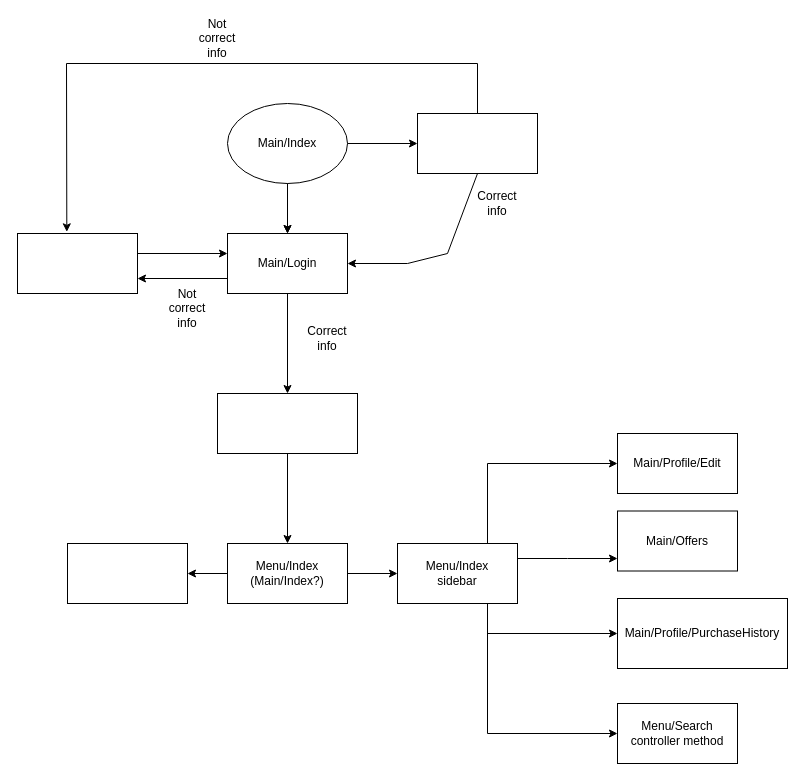
This 805x781 diagram has some shape labels left out. The centre of each missing label's shape, as x and y in pixels:
"Main/Error" belongs at point (77, 263).
"Main/Logout(Partial view showing confirmation)" belongs at point (127, 573).
"Main/Register" belongs at point (477, 143).
"TwoFactorAuthentication" belongs at point (287, 423).
